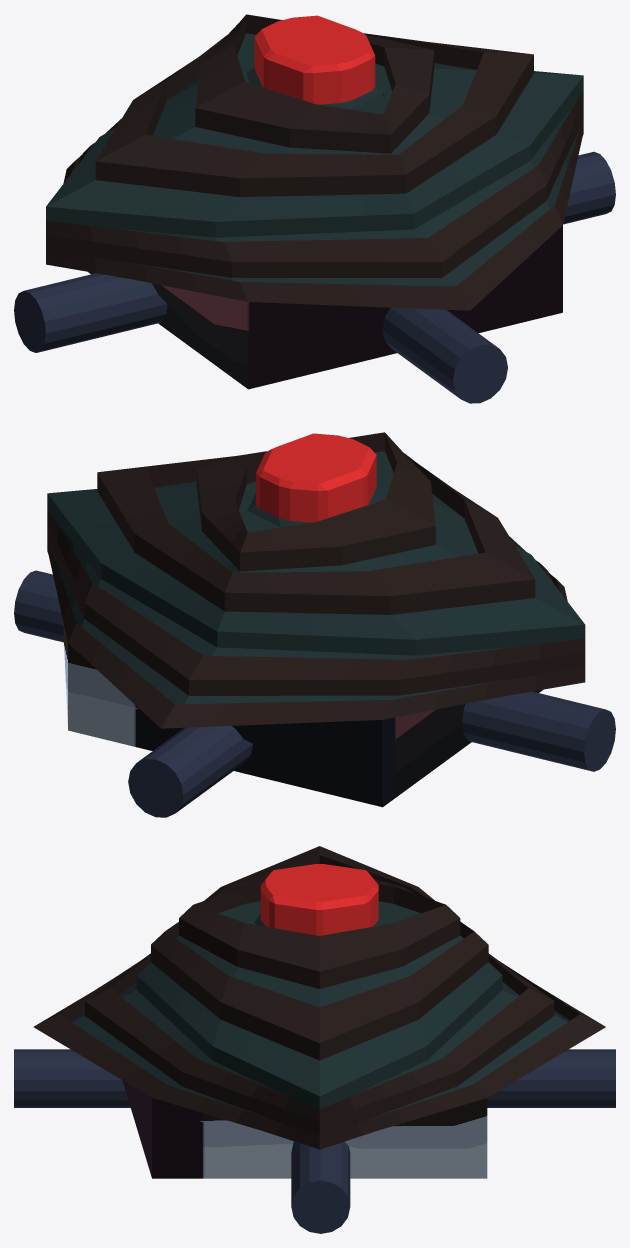
Rendered from Boss1.fbx.
3 views of the same model, one above another, from view 1: azimuth 30°, elevation 25°; view 2: azimuth 150°, elevation 25°; view 3: azimuth 270°, elevation 25° (orthographic). The views are drawn at different scales.
Visible parts, largest first — view 1: Cube; view 2: Cube; view 3: Cube.
Boxes of the visible parts, x1,y1,x2,y2 form: Cube: (14,14,615,403); Cube: (14,432,615,817); Cube: (14,846,615,1233).
Size of the model in its own units: 177 by 72.34 by 176.
Materials: 1 (1 with a texture image).
